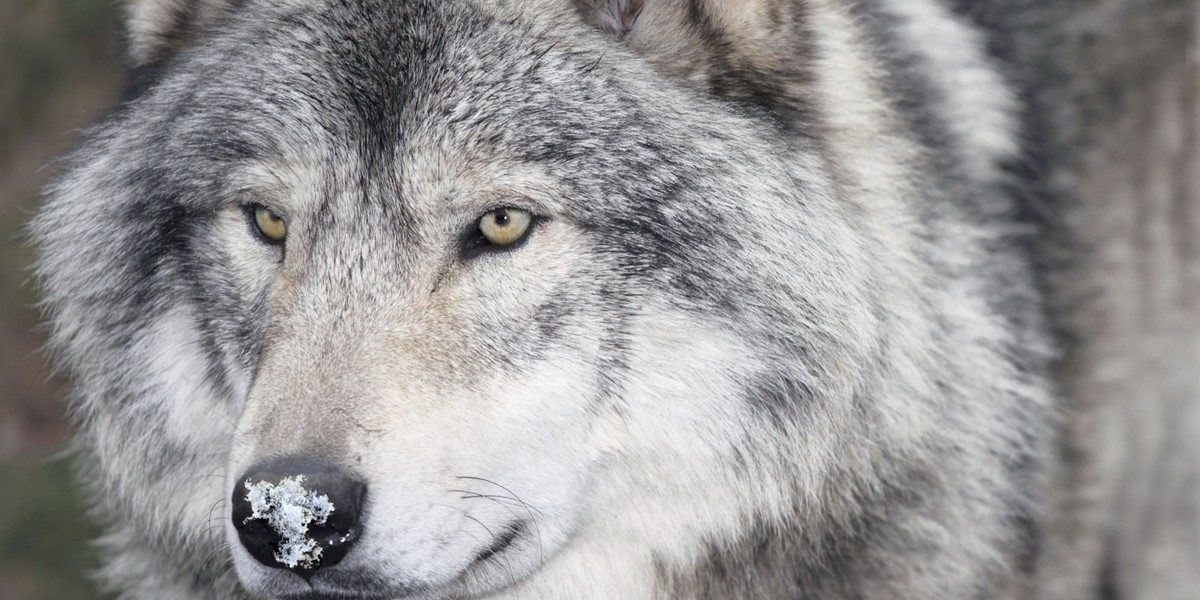Lobo: (53, 2, 799, 586)
